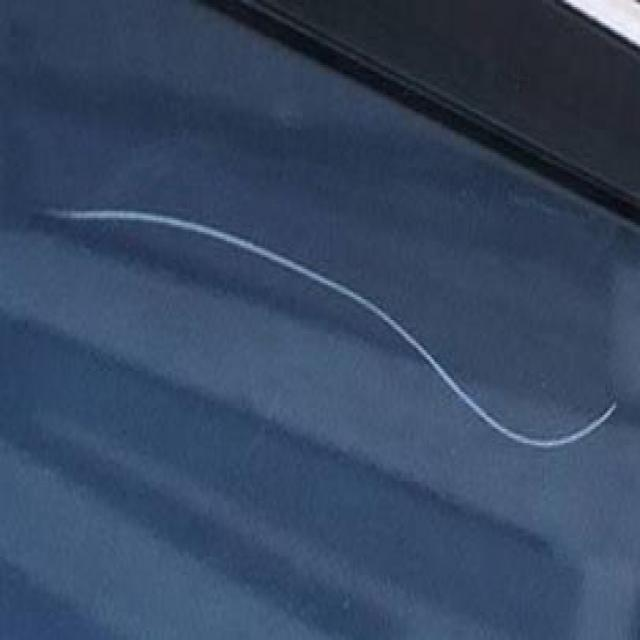scratch: (30, 196, 620, 456)
